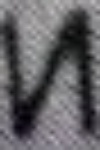I_RUS: (0, 0, 99, 149)
